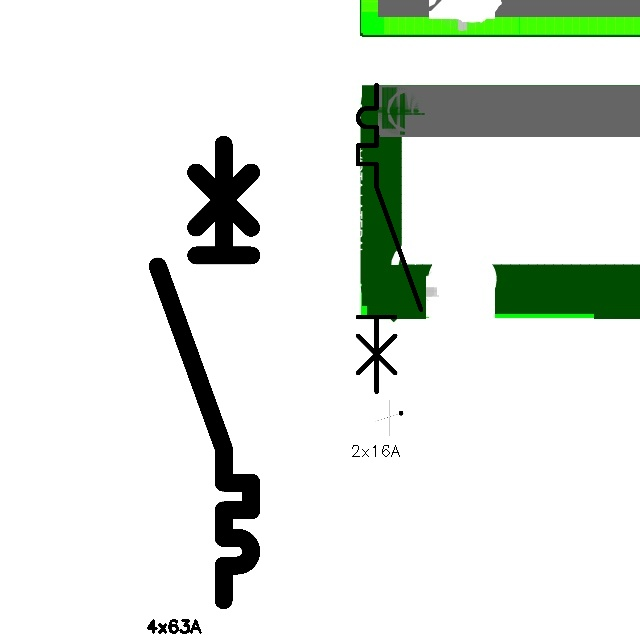interruptor_termomagnetico: (146, 133, 263, 612), (350, 77, 429, 399)
